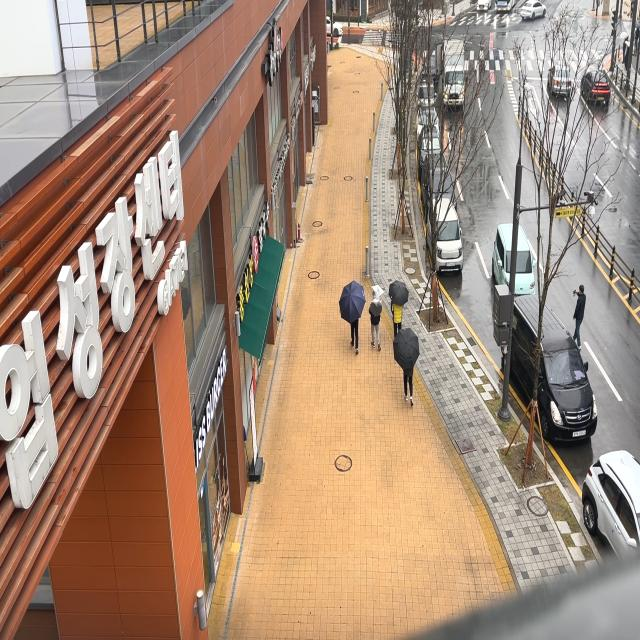Car: (496, 289, 598, 443), (581, 451, 640, 560), (490, 213, 543, 307), (424, 191, 467, 278), (421, 146, 457, 211), (578, 57, 610, 112), (544, 59, 574, 110), (416, 122, 443, 170), (414, 104, 443, 142), (414, 75, 436, 114), (321, 11, 348, 38), (517, 0, 546, 20)
Truck: (433, 39, 471, 110)
